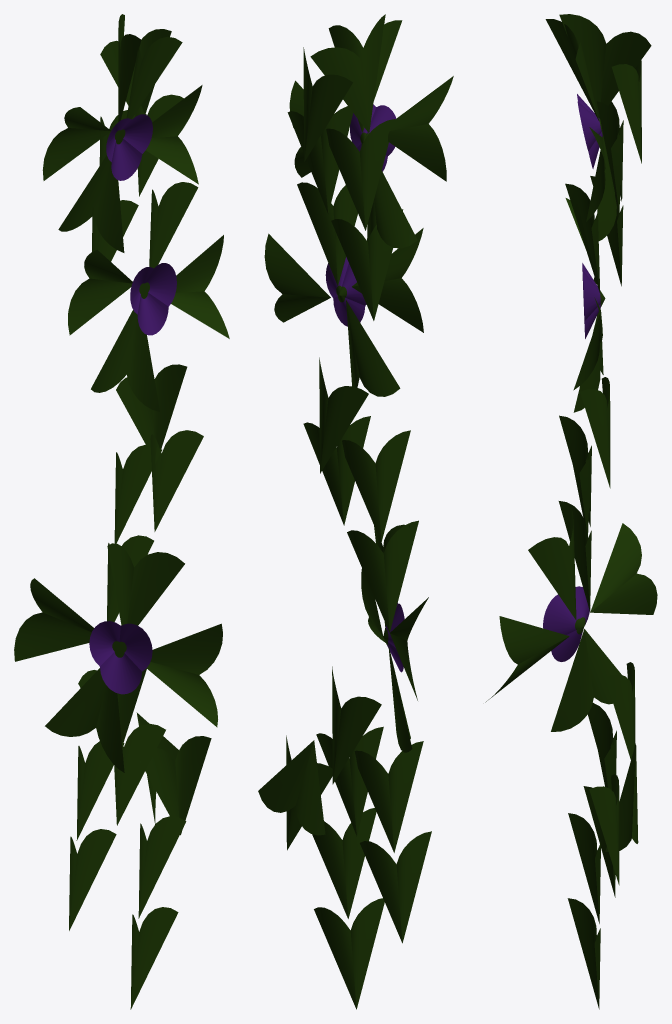
The model's file is Plant_Vine_03.fbx.
3 views of the same model, side by side, from view 1: azimuth 30°, elevation 25°; view 2: azimuth 150°, elevation 25°; view 3: azimuth 270°, elevation 25° (orthographic).
Visible parts, largest first — view 1: Model; view 2: Model; view 3: Model.
Boxes of the visible parts, x1,y1,x2,y2 form: Model: (14,14,229,1009); Model: (258,14,453,1009); Model: (485,14,657,1009).
Size of the model in its own units: 150 by 781 by 125.
